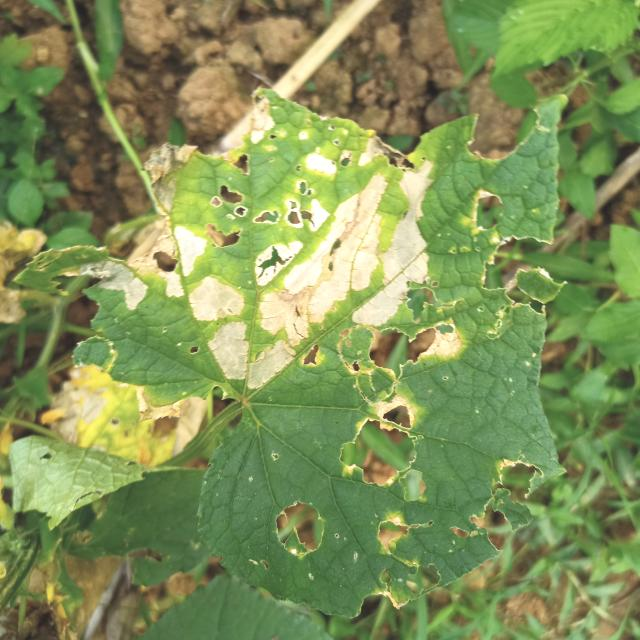disease_cucumber: (327, 172, 532, 570), (104, 144, 442, 379)
